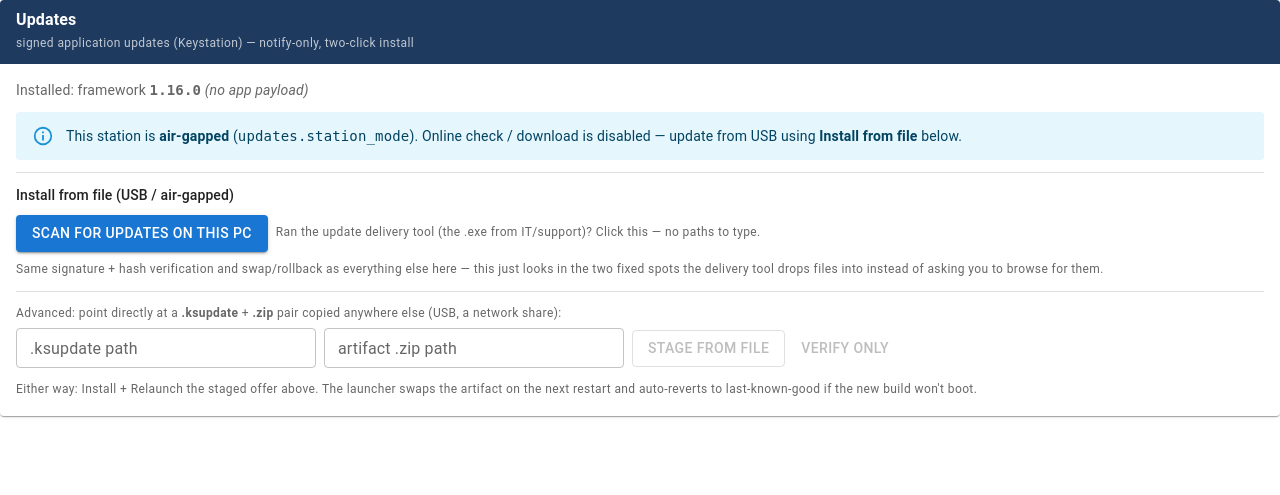
Test: UpdatesConfig › air_gapped: Scan for updates reports nothing found without erroring
What coordinates should you click on to do the following:
click the button "Scan for updates on this PC"
I would click on:
 (142, 233)
Its box is [16,215,268,252].
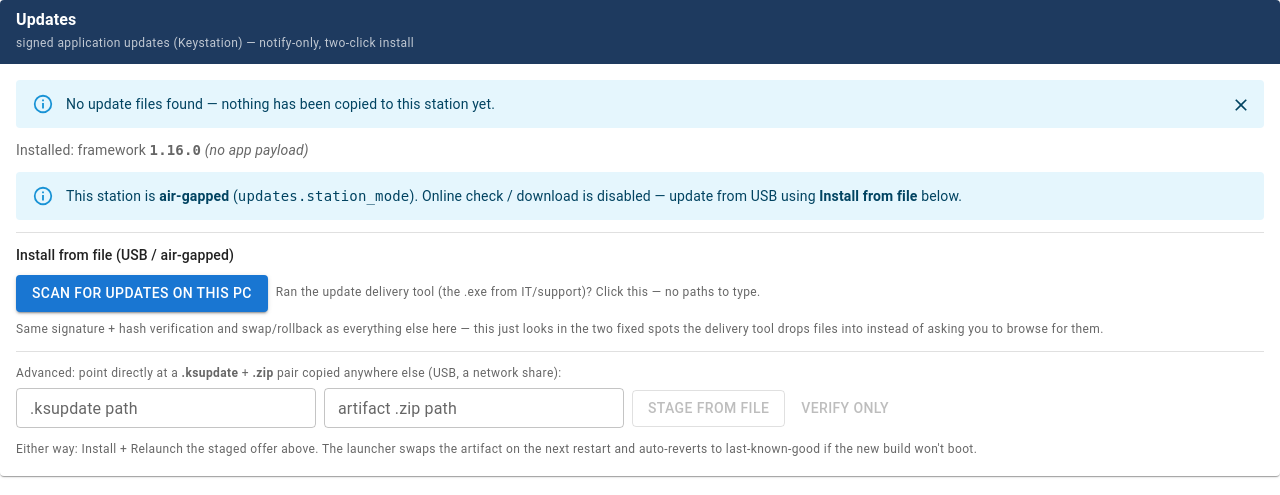
Expected: the text "No update files found" is shown, [66,96,495,112]
